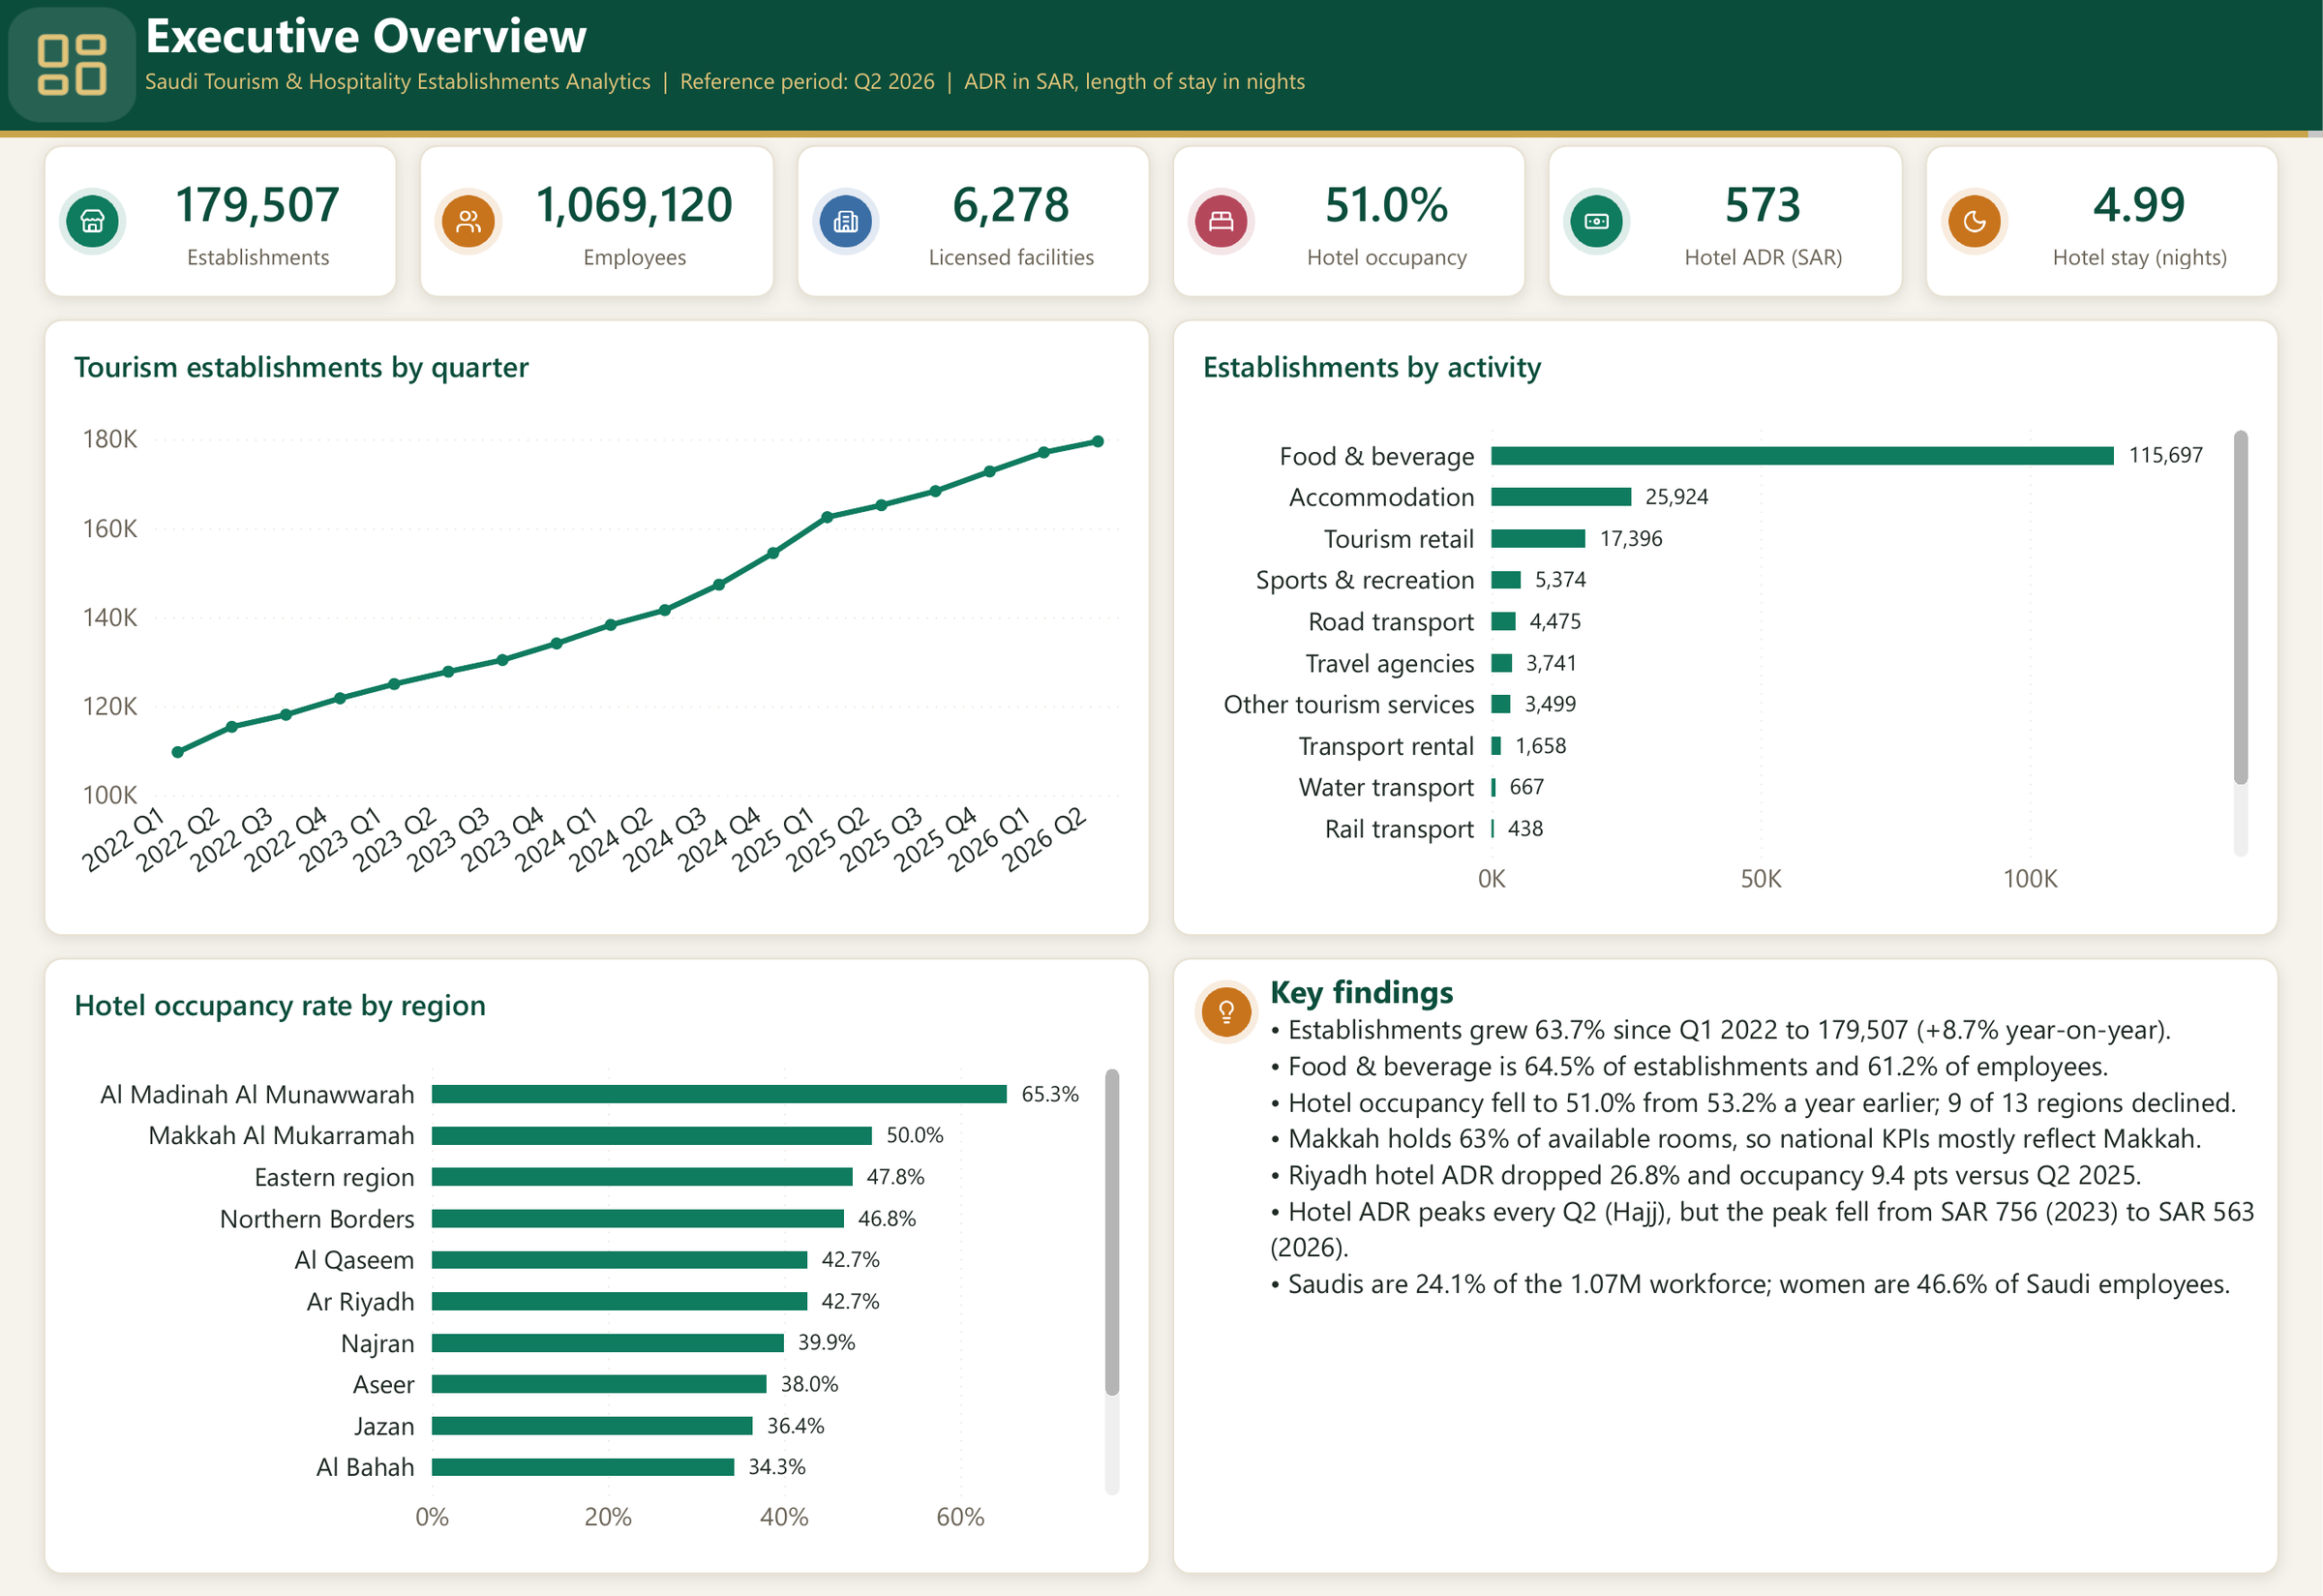

Layout of this report page (visuals, bound fields, positions):
{"tool":"powerbi","page":{"name":"Executive Overview","canvas":[1280,880],"ordinal":0},"visuals":[{"type":"textbox","box":[80,0,1200,72],"z":0},{"type":"image","box":[0,0,80,72],"z":1},{"type":"textbox","box":[0,72,1280,4],"z":2},{"type":"textbox","box":[24,80,195.3,84],"z":998},{"type":"card","fields":{"Values":["_Measures.Total Establishments"]},"box":[70,80,145.3,84],"z":1000},{"type":"image","box":[32,103,38,38],"z":1001},{"type":"textbox","box":[231.3,80,195.3,84],"z":1998},{"type":"card","fields":{"Values":["_Measures.Total Employees"]},"box":[277.3,80,145.3,84],"z":2000},{"type":"image","box":[239.3,103,38,38],"z":2001},{"type":"textbox","box":[438.7,80,195.3,84],"z":2998},{"type":"card","fields":{"Values":["_Measures.Licensed Facilities"]},"box":[484.7,80,145.3,84],"z":3000},{"type":"image","box":[446.7,103,38,38],"z":3001},{"type":"textbox","box":[646,80,195.3,84],"z":3998},{"type":"card","fields":{"Values":["_Measures.Average Hotel Occupancy Rate"]},"box":[692,80,145.3,84],"z":4000},{"type":"image","box":[654,103,38,38],"z":4001},{"type":"textbox","box":[853.3,80,195.3,84],"z":4998},{"type":"card","fields":{"Values":["_Measures.Average ADR"]},"box":[899.3,80,145.3,84],"z":5000},{"type":"image","box":[861.3,103,38,38],"z":5001},{"type":"textbox","box":[1060.7,80,195.3,84],"z":5998},{"type":"card","fields":{"Values":["_Measures.Average Length of Stay"]},"box":[1106.7,80,145.3,84],"z":6000},{"type":"image","box":[1068.7,103,38,38],"z":6001},{"type":"lineChart","title":"Tourism establishments by quarter","fields":{"Category":["Dim_Quarter.Quarter_Label"],"Y":["_Measures.Q Tourism Establishments"]},"box":[24,176,610,340],"z":7000},{"type":"clusteredBarChart","title":"Establishments by activity","fields":{"Category":["Dim_Activity.Activity_Short"],"Y":["_Measures.Total Establishments"]},"box":[646,176,610,340],"z":8000},{"type":"clusteredBarChart","title":"Hotel occupancy rate by region","fields":{"Category":["Dim_Region.Region"],"Y":["_Measures.Average Hotel Occupancy Rate"]},"box":[24,528,610,340],"z":9000},{"type":"textbox","box":[646,528,610,340],"z":9998},{"type":"textbox","box":[700,534,548,328],"z":10000},{"type":"image","box":[658,540,36,36],"z":10001}]}

Visuals, with their boxes in screenshot pixels (x1, y1, x2, y2), scaled from the page's 1280x880 canvas onto the 2323x1596 screenshot:
textbox: 145,0,2322,131
image: 0,0,145,131
textbox: 0,131,2322,137
textbox: 44,145,398,297
card - _Measures.Total Establishments: 127,145,391,297
image: 58,187,127,256
textbox: 420,145,774,297
card - _Measures.Total Employees: 503,145,767,297
image: 435,187,503,256
textbox: 797,145,1151,297
card - _Measures.Licensed Facilities: 880,145,1143,297
image: 811,187,880,256
textbox: 1172,145,1526,297
card - _Measures.Average Hotel Occupancy Rate: 1256,145,1520,297
image: 1187,187,1256,256
textbox: 1549,145,1903,297
card - _Measures.Average ADR: 1632,145,1896,297
image: 1563,187,1632,256
textbox: 1925,145,2279,297
card - _Measures.Average Length of Stay: 2008,145,2273,297
image: 1940,187,2008,256
"Tourism establishments by quarter" lineChart: 44,319,1151,936
"Establishments by activity" clusteredBarChart: 1172,319,2279,936
"Hotel occupancy rate by region" clusteredBarChart: 44,957,1151,1575
textbox: 1172,957,2279,1575
textbox: 1270,969,2265,1563
image: 1194,979,1259,1044
